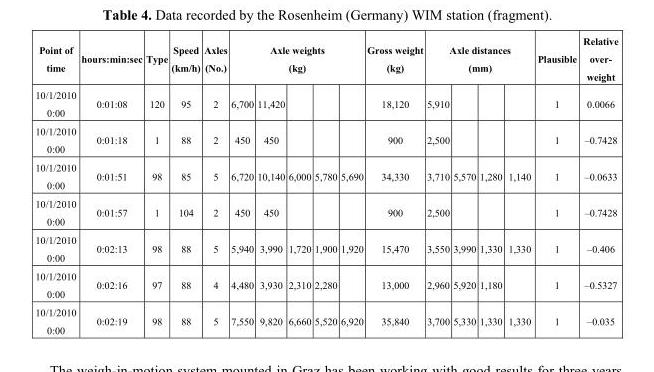table: (34, 34, 617, 335)
table column: (78, 34, 143, 335), (364, 34, 424, 335), (533, 34, 579, 335), (34, 34, 78, 335), (579, 34, 617, 335), (168, 34, 201, 335), (254, 34, 286, 335), (504, 34, 533, 335), (201, 34, 228, 335), (450, 34, 477, 335), (477, 34, 504, 335), (228, 34, 254, 335), (286, 34, 312, 335), (312, 34, 338, 335), (338, 34, 364, 335), (424, 34, 450, 335), (143, 34, 168, 335)
table column header: (34, 34, 617, 121)
table row: (34, 34, 617, 85), (34, 157, 617, 194), (34, 85, 617, 121), (34, 121, 617, 157), (34, 194, 617, 230), (34, 230, 617, 266), (34, 266, 617, 302), (34, 302, 617, 335)
table spanning cell: (228, 34, 364, 85), (78, 34, 143, 121), (424, 34, 533, 85), (364, 34, 424, 121), (533, 34, 579, 121), (34, 34, 78, 121), (579, 34, 617, 121), (168, 34, 201, 121), (201, 34, 228, 121), (143, 34, 168, 121)
